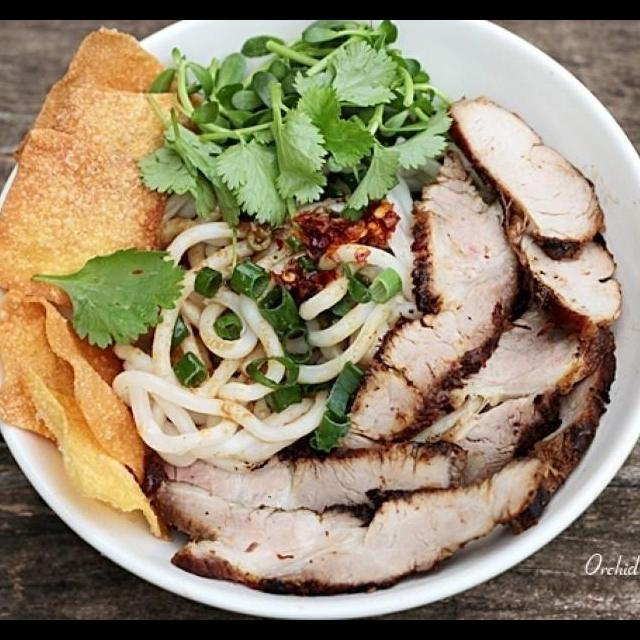banh da: (327, 27, 640, 231), (51, 39, 362, 201)
mi: (130, 140, 520, 412)
mi quang: (0, 64, 638, 620)
thit heo: (145, 321, 530, 499), (0, 163, 163, 530), (102, 380, 354, 562), (78, 165, 188, 452), (384, 419, 594, 566), (289, 464, 492, 576), (98, 480, 325, 576)
